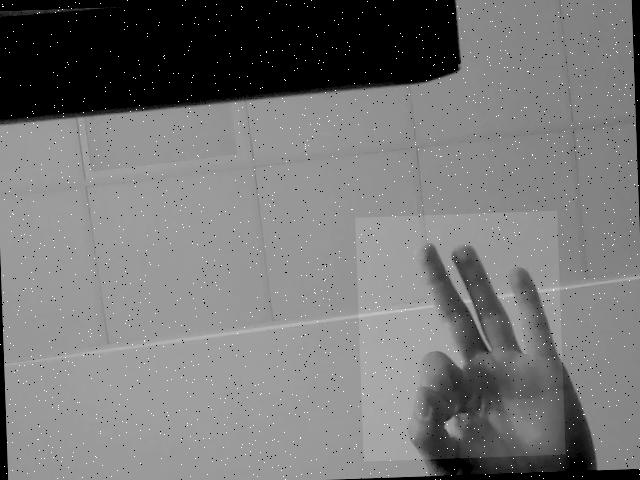OK: (356, 210, 566, 462)
